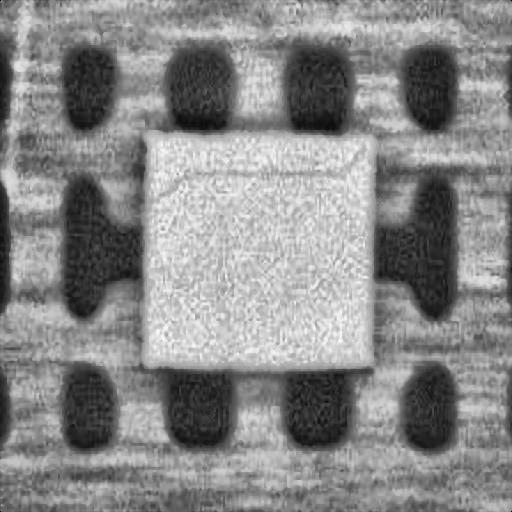DIE_CRACK: (147, 143, 361, 202)
